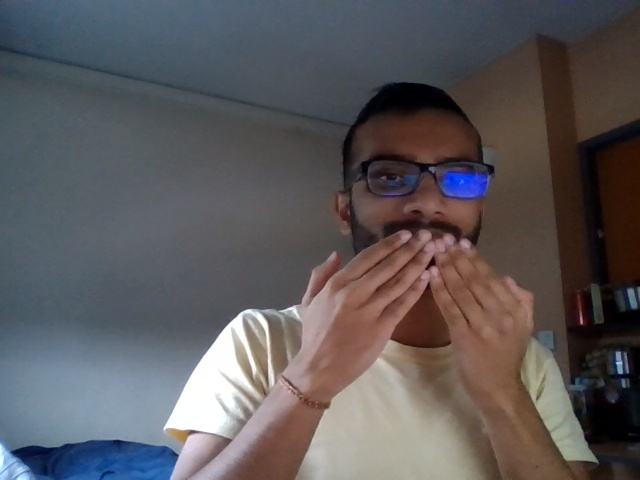Thanks: (289, 226, 536, 382)
